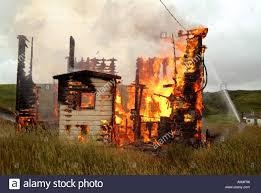fire: (113, 24, 208, 146)
